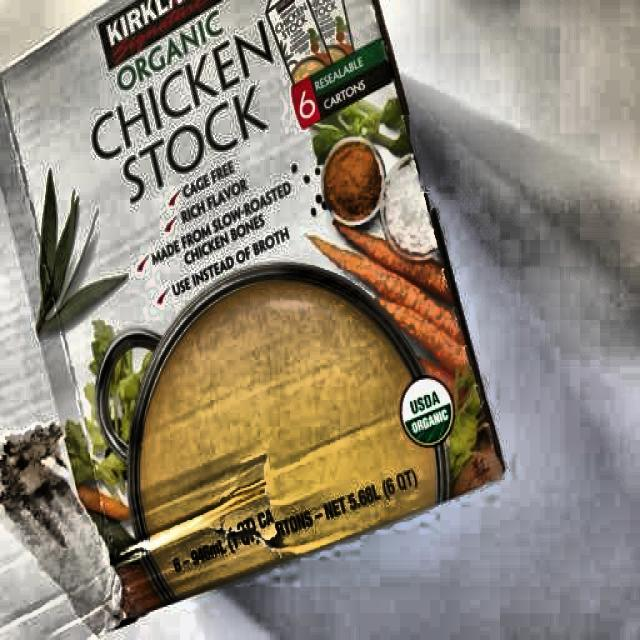cardboard: (4, 3, 510, 621)
